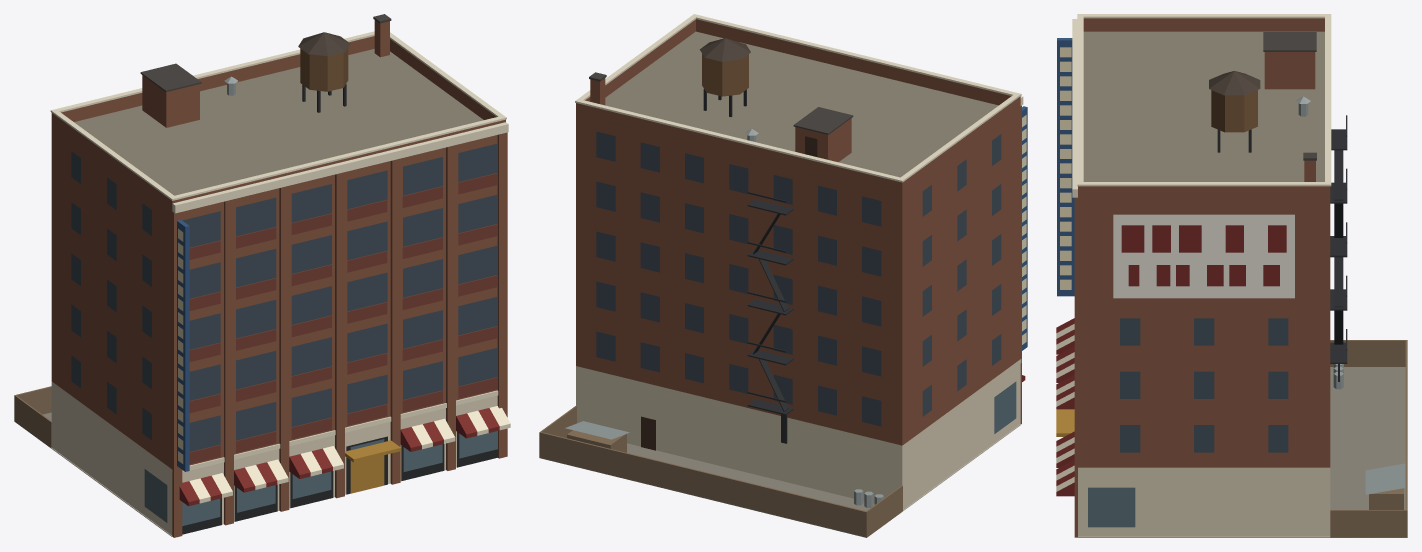
The model's file is office_we.glb.
The picture shows the model from 3 angles, left to right: view 1: azimuth 30°, elevation 25°; view 2: azimuth 150°, elevation 25°; view 3: azimuth 270°, elevation 25°; orthographic projection. The views are drawn at different scales.
Visible parts, largest first — view 1: office_we; view 2: office_we; view 3: office_we.
Boxes of the visible parts, bbox=[...] form: office_we: bbox=[14, 14, 510, 537]; office_we: bbox=[539, 14, 1027, 537]; office_we: bbox=[1056, 14, 1407, 537].
Size of the model in its own units: 20 by 22.54 by 17.42.
